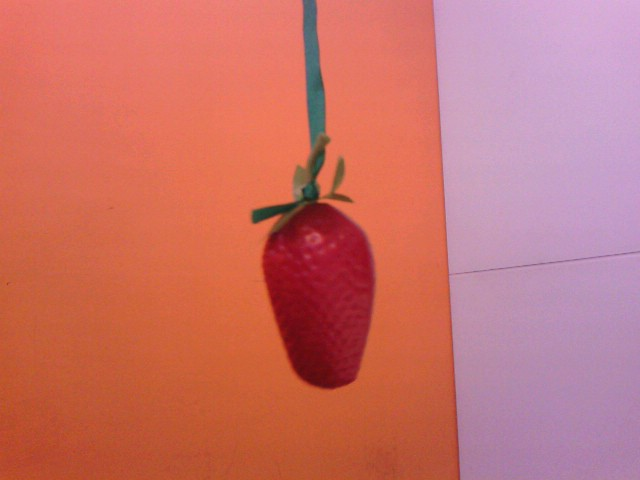strawberry: (256, 197, 382, 390)
